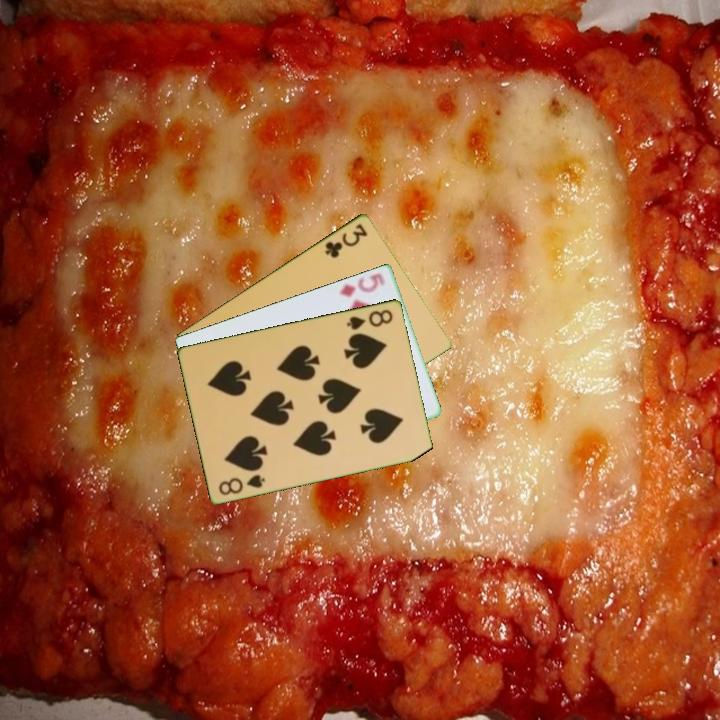3c: (321, 220, 371, 261)
5d: (336, 269, 388, 300)
8s: (215, 470, 268, 498), (343, 306, 396, 332)
